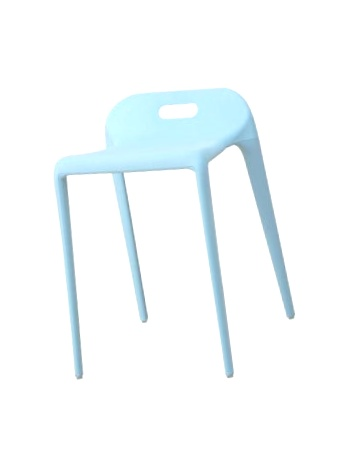plastic: (52, 82, 303, 382)
